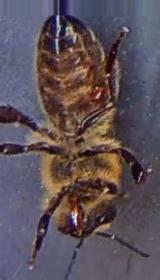varroa_mite: (78, 72, 115, 114)
